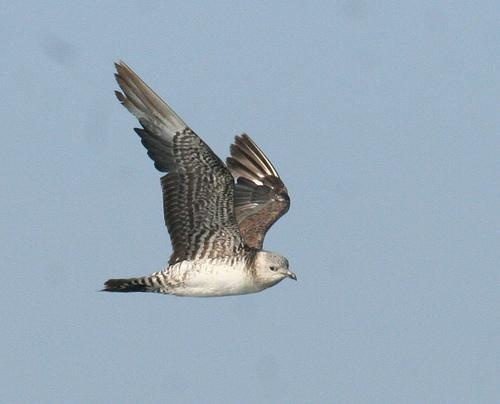bird: (83, 52, 299, 297)
